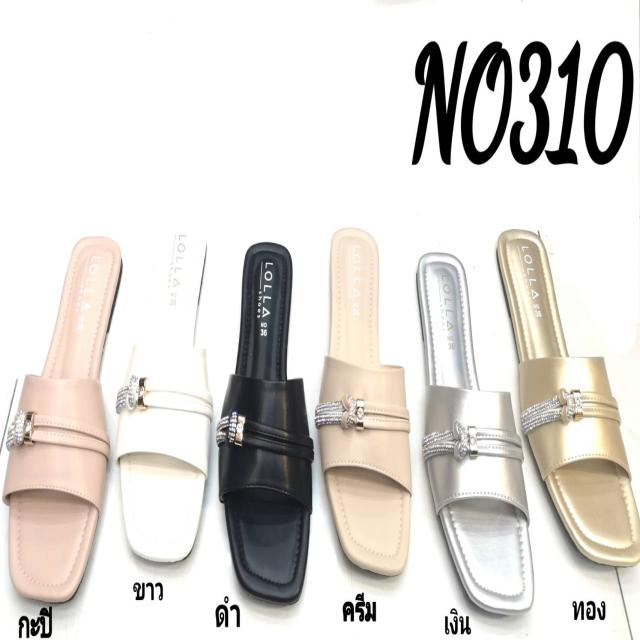black: (220, 242, 314, 602)
cream: (324, 226, 407, 574)
gold: (501, 231, 638, 566)
kapi: (6, 242, 125, 597)
silver: (416, 249, 532, 615)
white: (118, 226, 207, 565)
